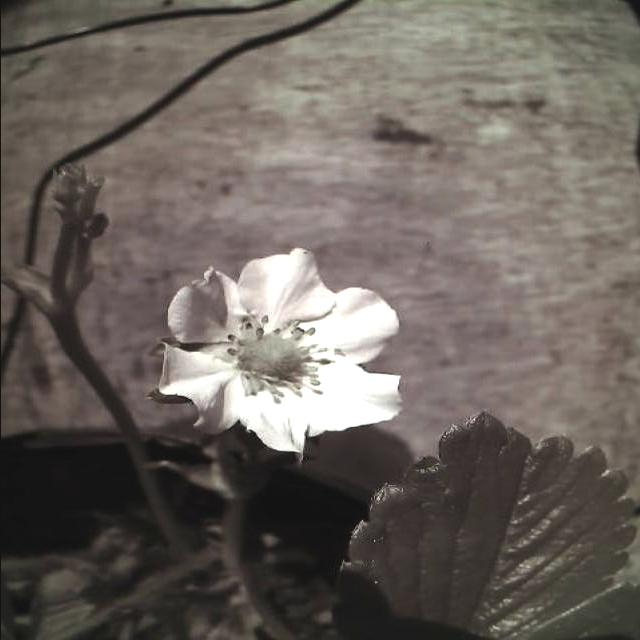flower: (143, 238, 413, 461)
